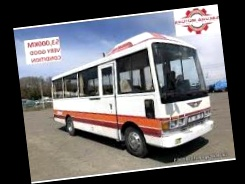bus: (43, 27, 217, 170)
